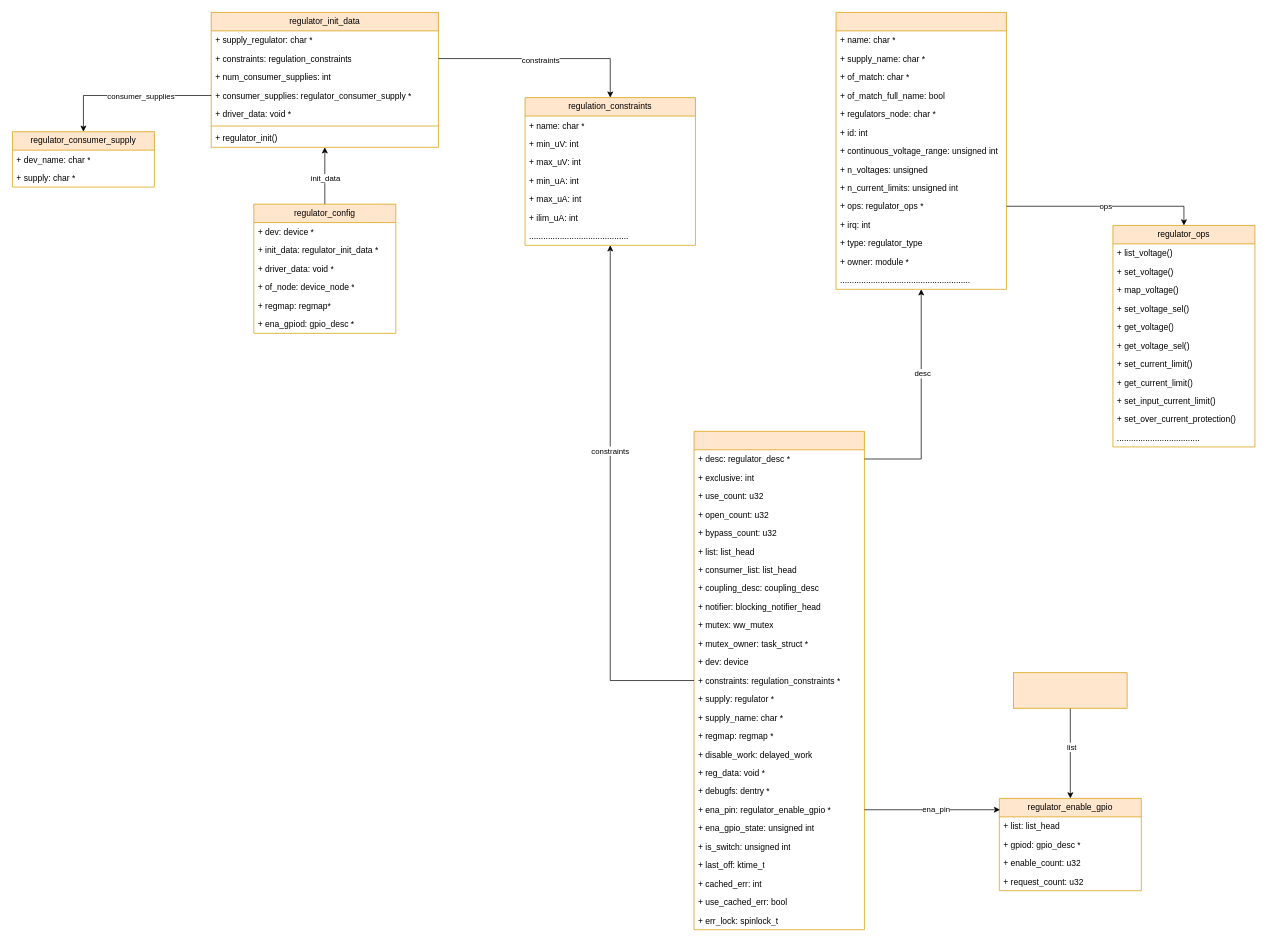
The diagram is 1267 pixels wide and 944 high, and some of its shapes have lost their labels. The shapes that lost their labels are listed below. From the top down, each one's box as (x1, y1, x2, y2) in pixels, then its label:
(835, 12, 1006, 289): regulator_desc
(693, 431, 864, 930): regulator_dev
(1013, 672, 1127, 708): regulator_ena_gpio_list
